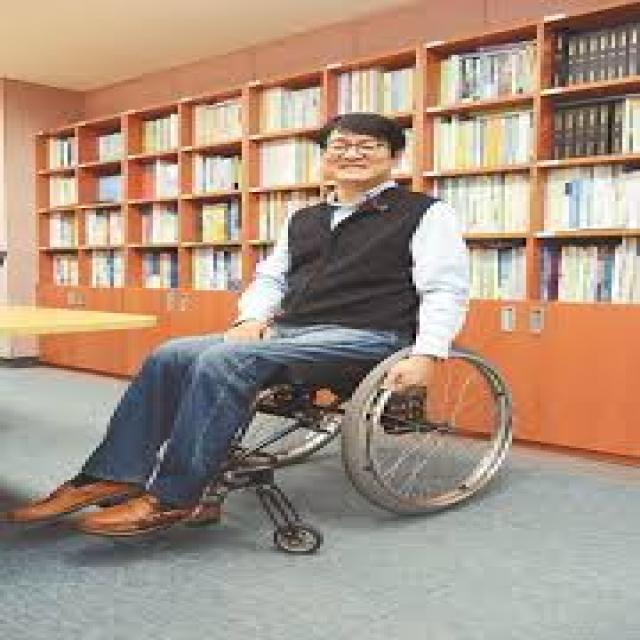wheelchair: (22, 113, 520, 554)
